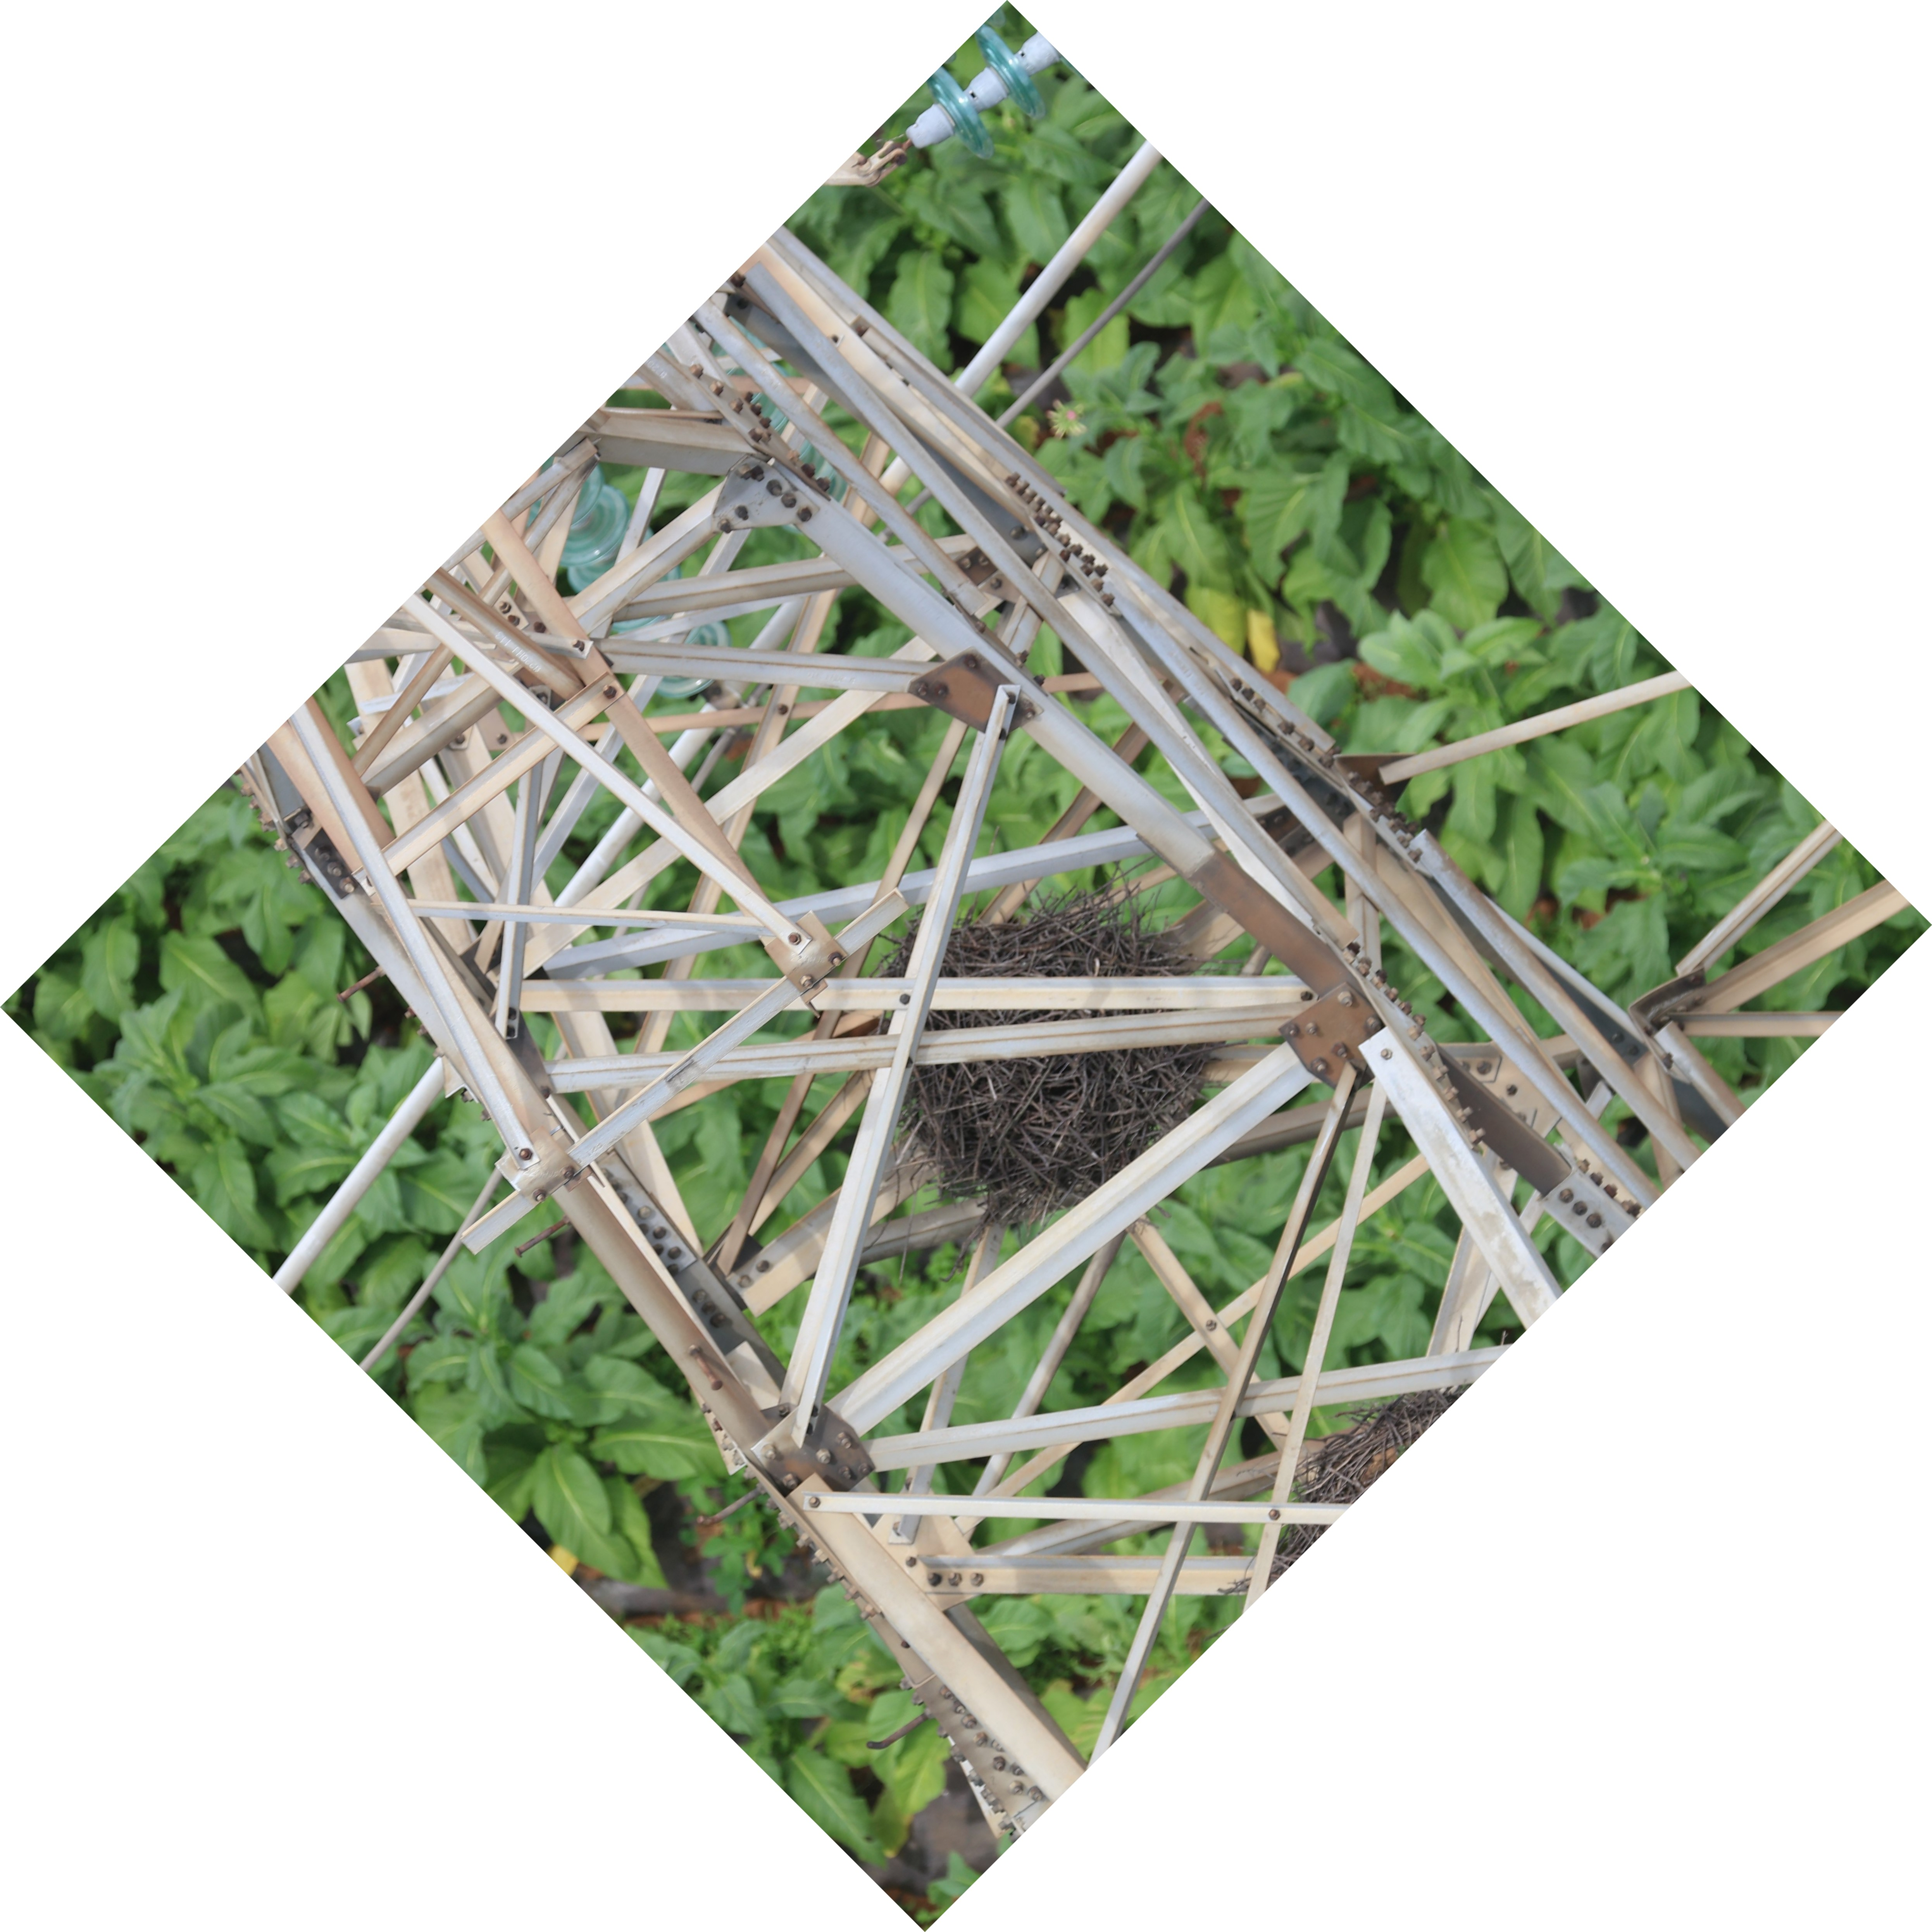niaowo: (856, 876, 1249, 1228)
